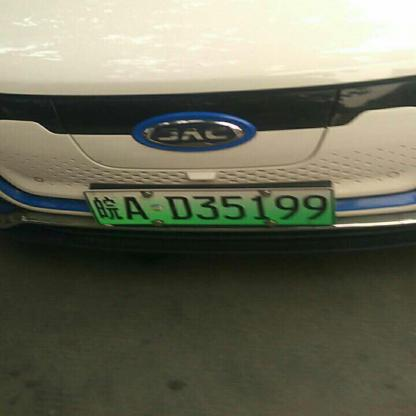lp: (85, 190, 333, 224)
